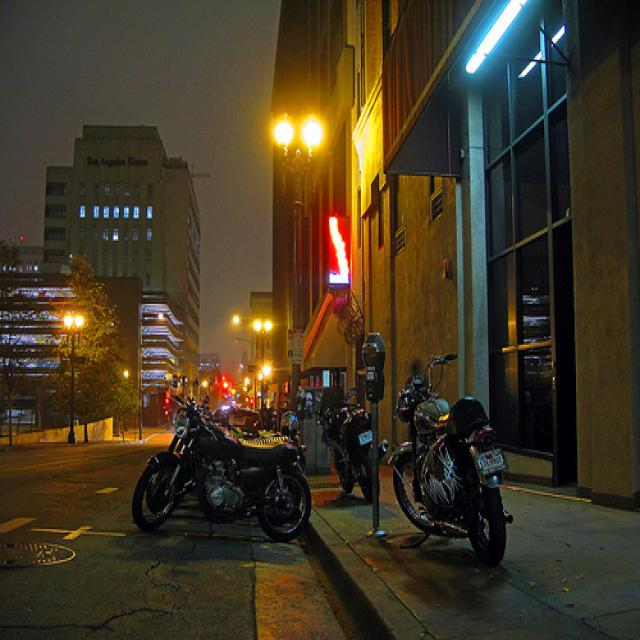Motorbike: (135, 366, 296, 549), (381, 373, 516, 578), (318, 379, 396, 508)
